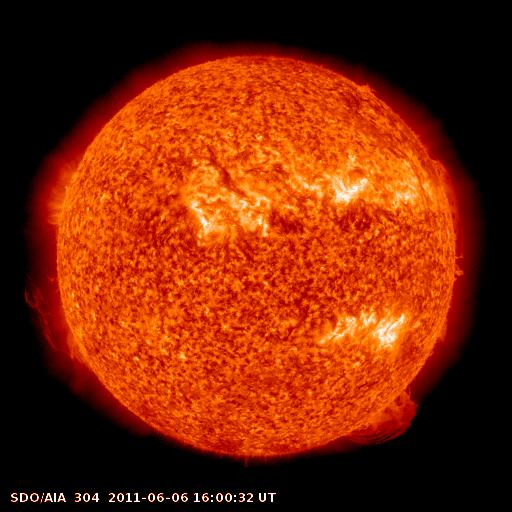prominence: (16, 273, 92, 366), (339, 380, 425, 456), (426, 155, 467, 281), (425, 310, 459, 357)
